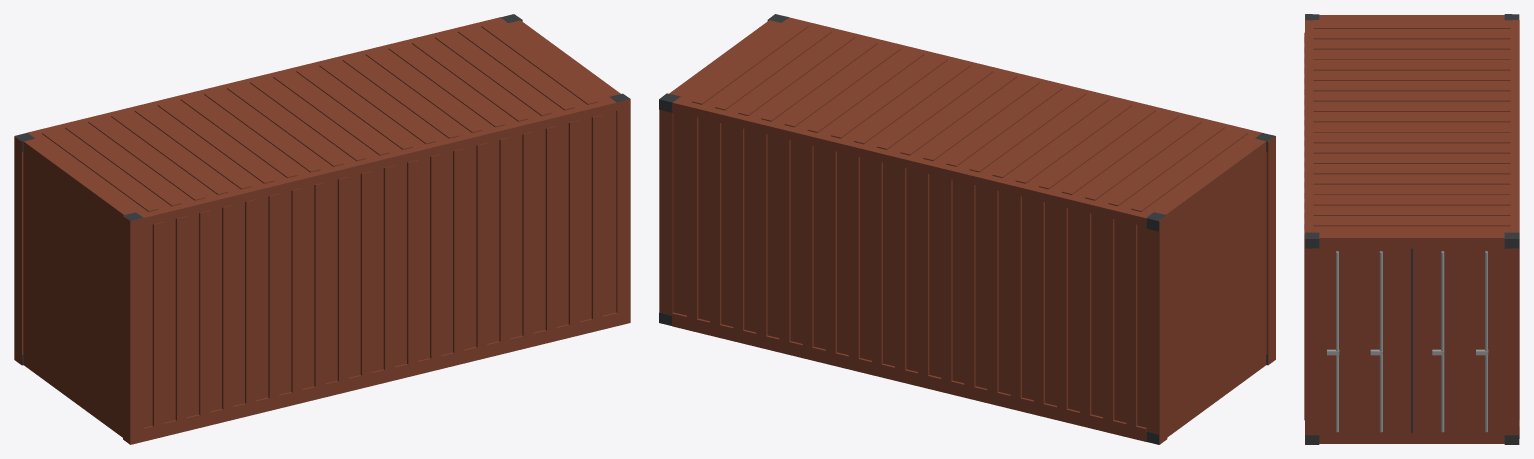
Rendered from prop_container_20_rust.glb.
3 renders of one model, left to right at view 1: azimuth 30°, elevation 25°; view 2: azimuth 150°, elevation 25°; view 3: azimuth 270°, elevation 25°, orthographic. The views are drawn at different scales.
Parts seen in each view (by area): view 1: Container; view 2: Container; view 3: Container.
Boxes of the visible parts, bbox=[...] form: Container: bbox=[14, 14, 630, 444]; Container: bbox=[659, 14, 1275, 444]; Container: bbox=[1304, 14, 1519, 444].
Size of the model in its own units: 6.11 by 2.6 by 2.46.
